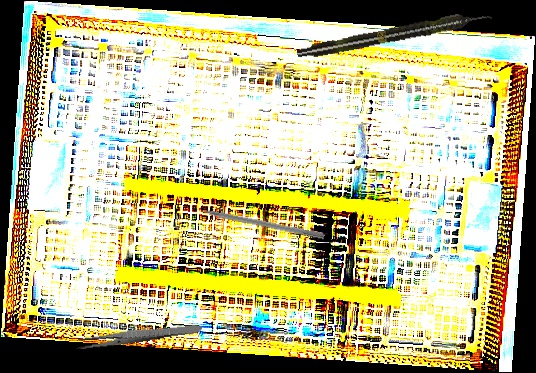Dressing Forceps: (74, 320, 203, 351)
Handpiece: (295, 7, 494, 63)
Pusher: (183, 202, 326, 240)
